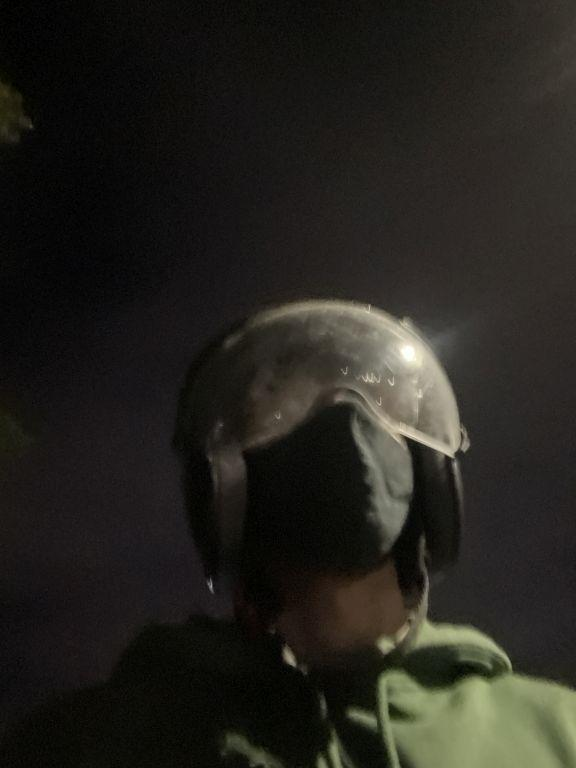helmet: (152, 280, 484, 618)
